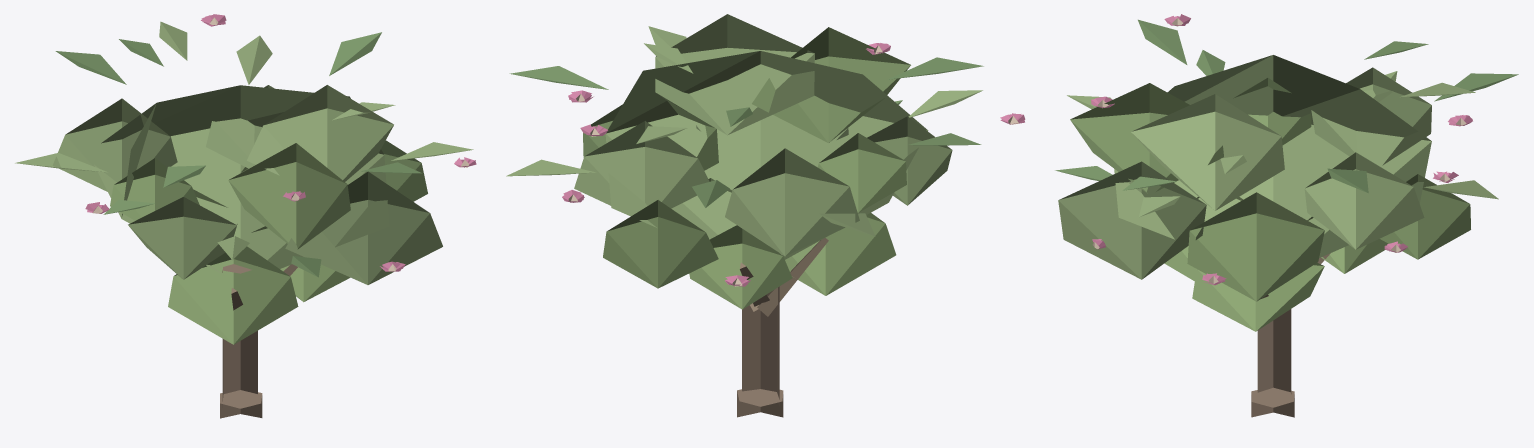
Rendered from shu.mangguo@flowering__summer.glb.
3 views of the same model, side by side, from view 1: azimuth 30°, elevation 25°; view 2: azimuth 150°, elevation 25°; view 3: azimuth 270°, elevation 25° (orthographic). The views are drawn at different scales.
Visible parts, largest first — view 1: shu.mangguo@flowering__summer; view 2: shu.mangguo@flowering__summer; view 3: shu.mangguo@flowering__summer.
Boxes of the visible parts, box(x1,y1,x2,y2) form: shu.mangguo@flowering__summer: box(15, 14, 476, 418); shu.mangguo@flowering__summer: box(506, 14, 1025, 417); shu.mangguo@flowering__summer: box(1055, 14, 1518, 417).
Bounding box in the file's own units: 14.05 × 11.4 × 13.39.
